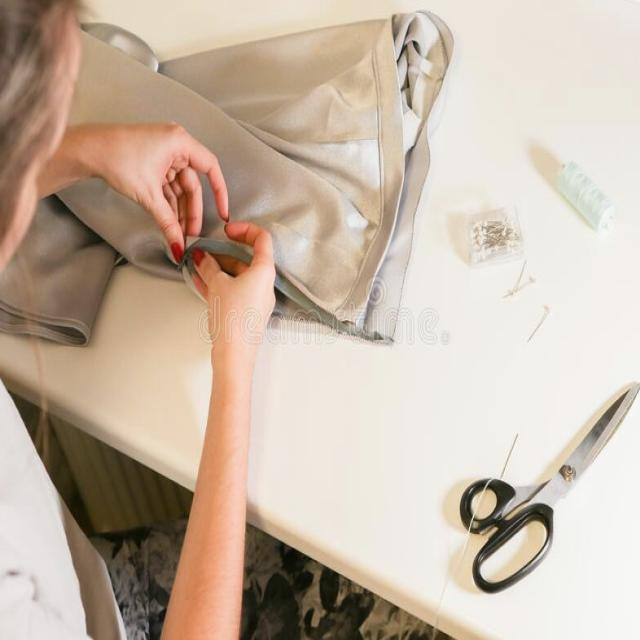clothes: (286, 4, 444, 318), (95, 24, 287, 120), (35, 224, 138, 361), (232, 130, 292, 221)
